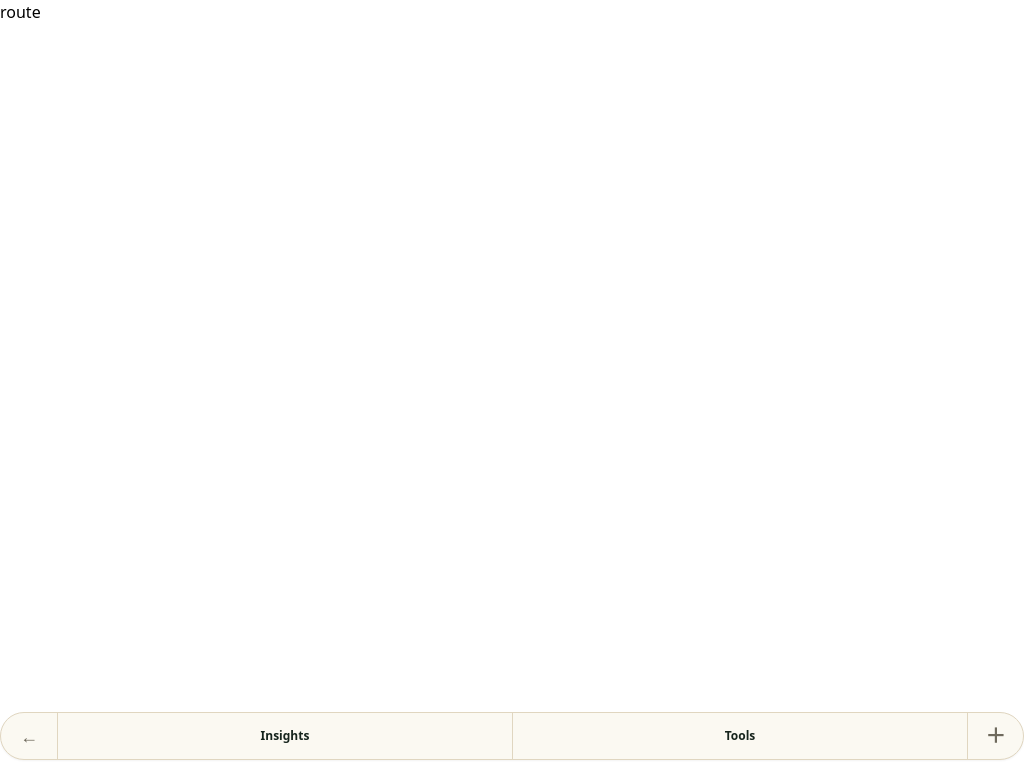
Test: mobile Actions sheet › opens the More bottom-sheet with its actions node and closes on ✕
Click the button with aria-label "Tools — PDF export, AI plan, cinematic": (740, 736) x1=512 y1=713 x2=967 y2=759
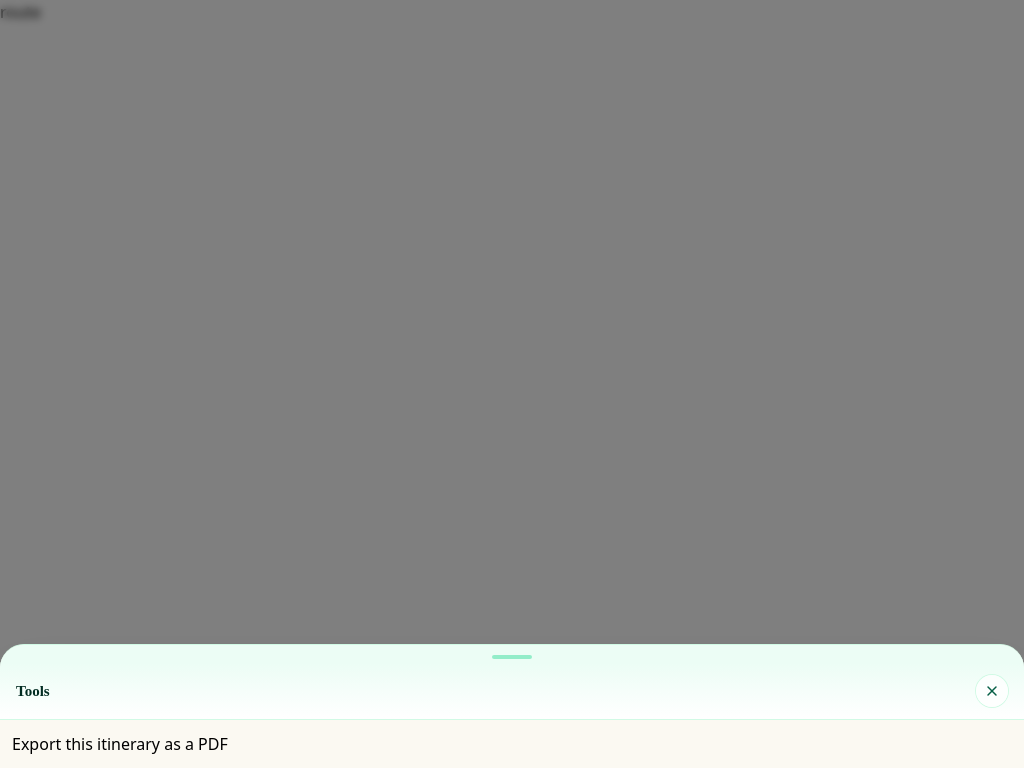
Expected: the button with aria-label "Tools — PDF export, AI plan, cinematic" is expanded, x1=512 y1=713 x2=967 y2=759
Expected: the heading "Tools" is shown, x1=16 y1=683 x2=50 y2=699
Expected: the button "Export this itinerary as a PDF" is shown, x1=12 y1=732 x2=228 y2=756
Click the button named "Close panel": (992, 691) x1=976 y1=675 x2=1008 y2=707
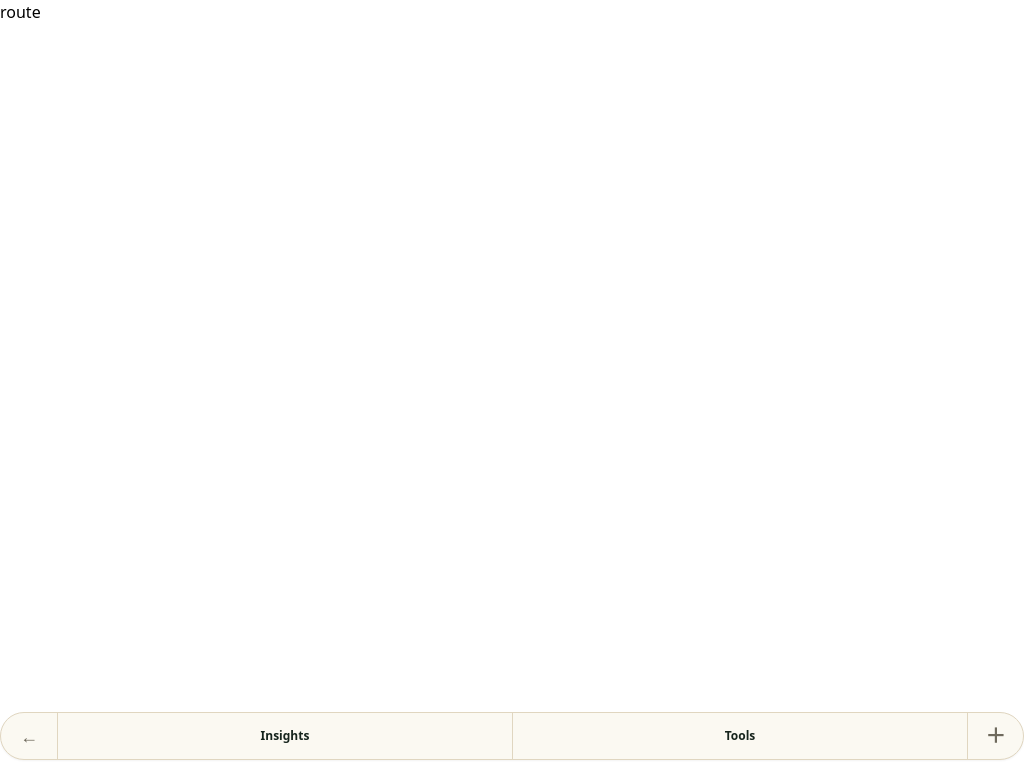
Expected: the button with aria-label "Tools — PDF export, AI plan, cinematic" is collapsed, x1=512 y1=713 x2=967 y2=759
